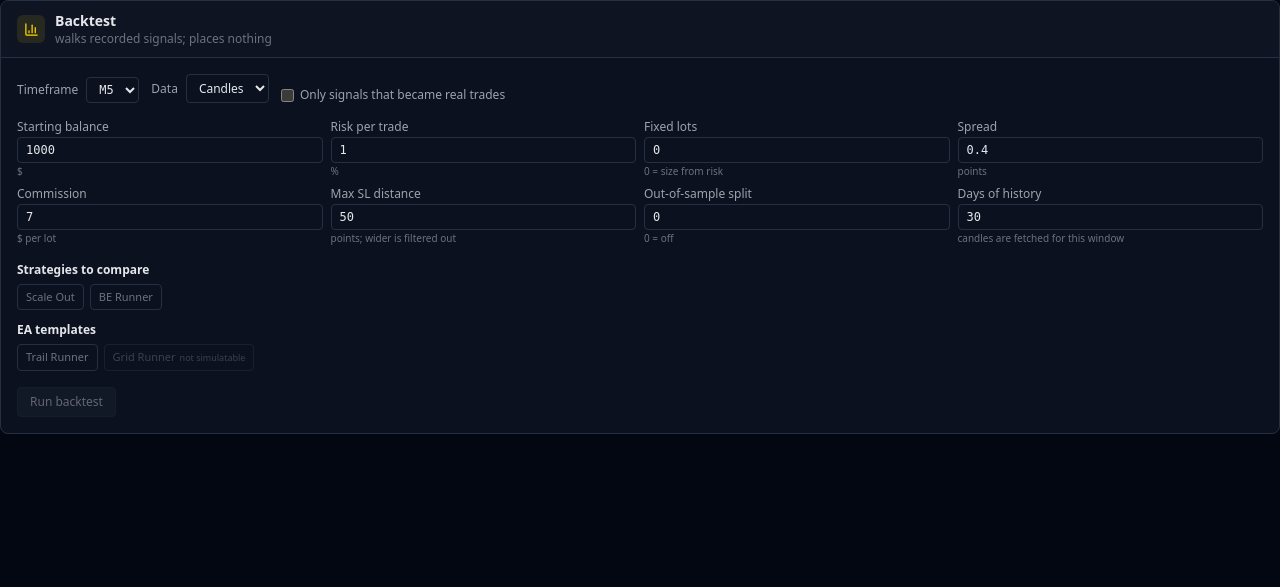
it: the results › renders a refused strategy as a refusal, not as zeros
Click the button "Scale Out" at (50, 297), box x1=17 y1=284 x2=84 y2=310
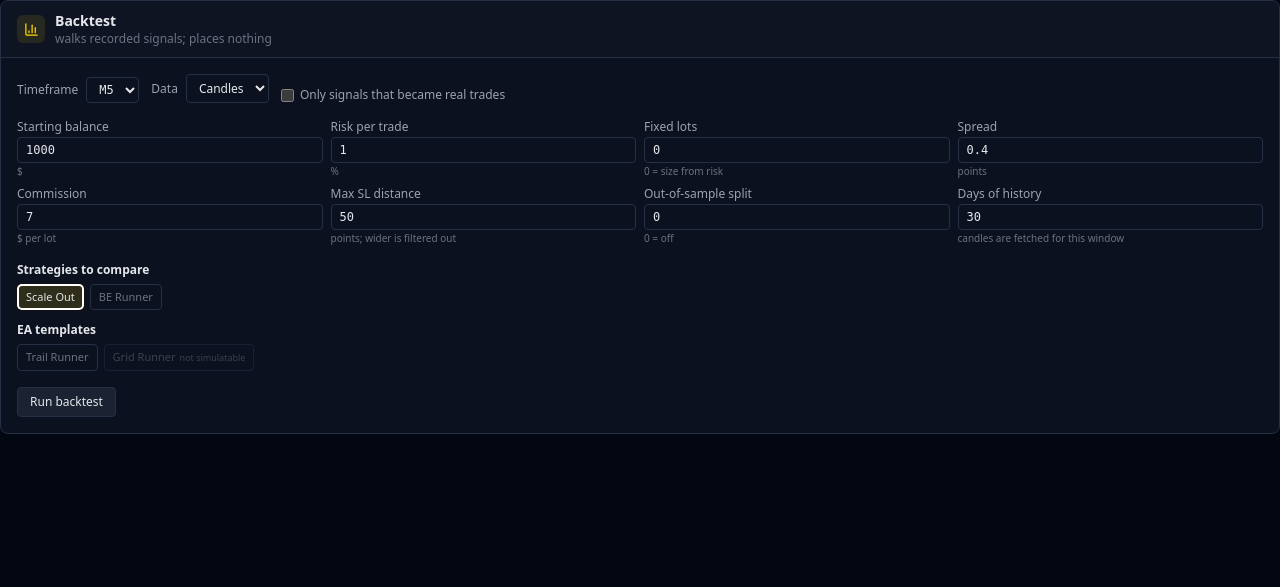
Click the button "Run backtest" at (66, 402), box x1=17 y1=387 x2=116 y2=417
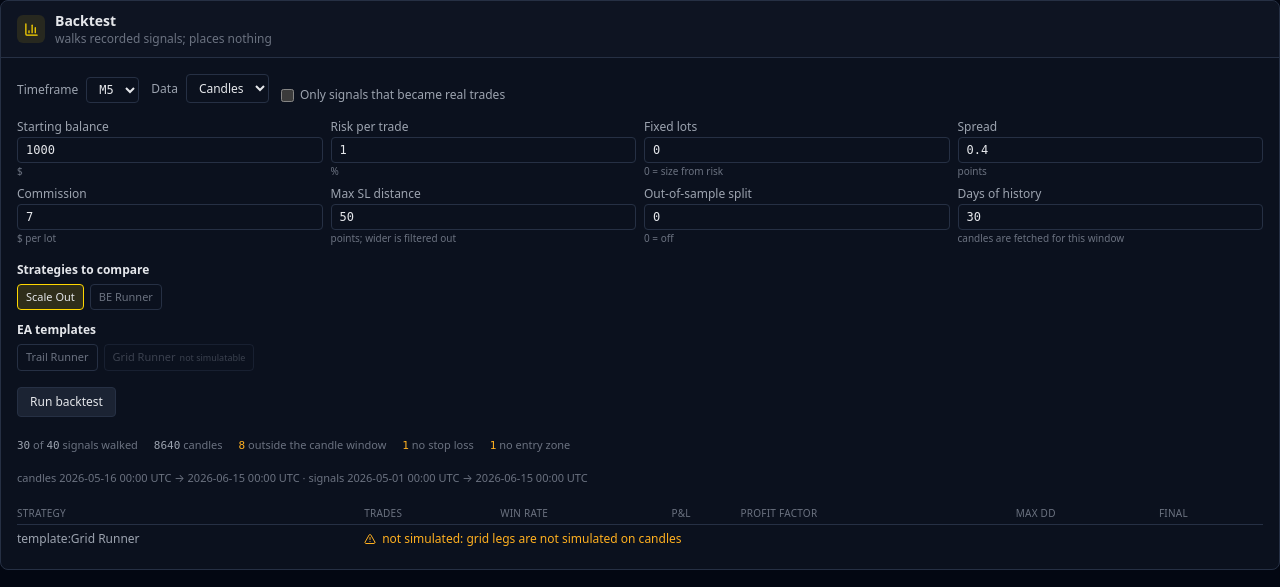
Now the element with test id "unsupported-template:Grid Runner" shows "not simulated", box x1=382 y1=530 x2=466 y2=547
Now the element with test id "unsupported-template:Grid Runner" shows "grid legs are not simulated on candles", box x1=466 y1=530 x2=682 y2=547
